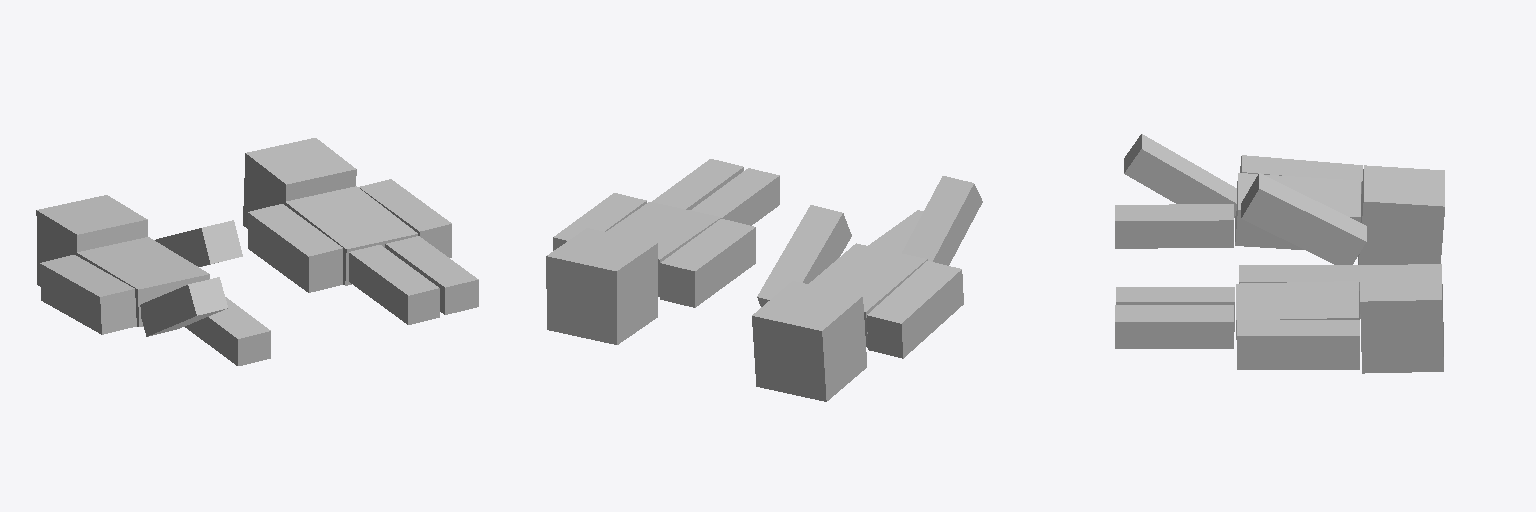
Rendered from steve_000028.obj.
3 renders of one model, left to right at view 1: azimuth 30°, elevation 25°; view 2: azimuth 150°, elevation 25°; view 3: azimuth 270°, elevation 25°, orthographic.
Visible parts, largest first — view 1: Cube.001_Cube.002, Cube_Cube.001; view 2: Cube_Cube.001, Cube.001_Cube.002; view 3: Cube.001_Cube.002, Cube_Cube.001.
Boxes of the visible parts, <box> form: Cube.001_Cube.002: <box>243,138,478,324</box>; Cube_Cube.001: <box>36,195,270,365</box>; Cube_Cube.001: <box>752,176,982,401</box>; Cube.001_Cube.002: <box>546,159,779,344</box>; Cube.001_Cube.002: <box>1115,264,1443,373</box>; Cube_Cube.001: <box>1115,134,1444,264</box>.
Bounding box in the file's own units: 6.55 × 1.99 × 5.36.